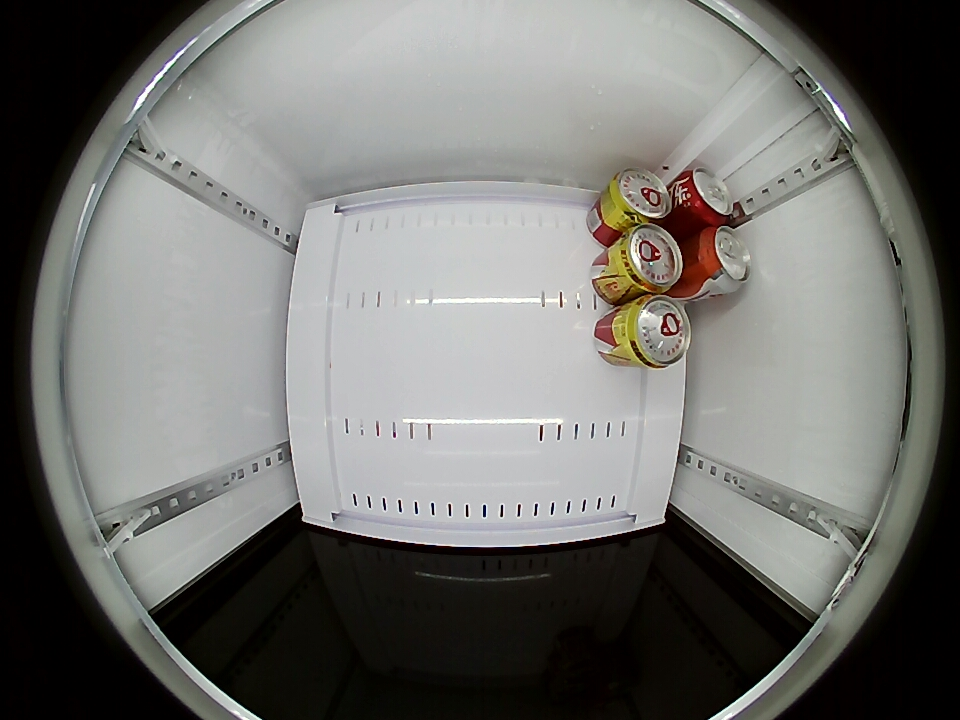dongpeng: (618, 295, 692, 369), (614, 225, 684, 295), (604, 167, 672, 226)
jianlibao: (695, 225, 753, 294)
kele: (676, 167, 736, 225)
